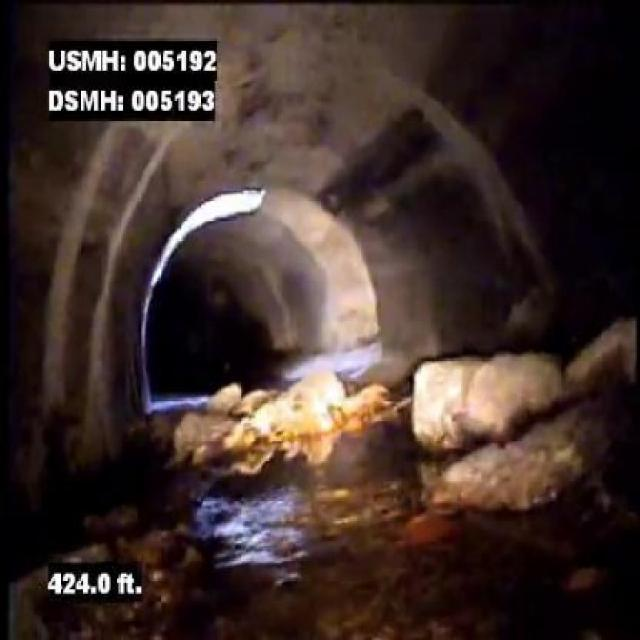Obstacle: (410, 316, 638, 518), (170, 368, 392, 480)
